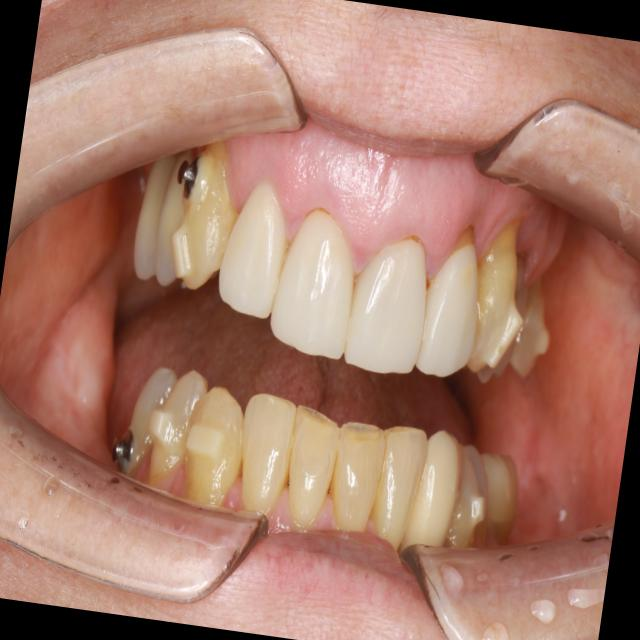tooth: (257, 191, 383, 385), (200, 157, 308, 336), (336, 214, 441, 394), (453, 201, 537, 397), (413, 208, 495, 400), (160, 142, 241, 309), (168, 376, 258, 517), (224, 382, 307, 534), (314, 405, 398, 543), (273, 392, 348, 536), (403, 412, 473, 557), (363, 419, 434, 556), (141, 359, 212, 489), (142, 144, 200, 297), (110, 357, 182, 480), (123, 141, 177, 294), (508, 262, 563, 389), (436, 437, 494, 555), (450, 437, 504, 554), (468, 442, 531, 532), (496, 279, 536, 385), (504, 236, 536, 303)
